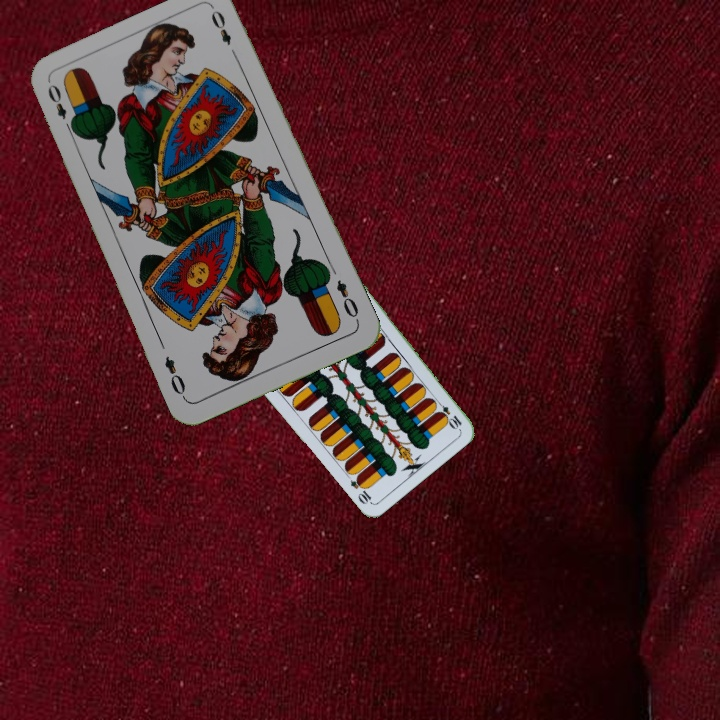E10: (431, 396, 464, 431)
EO: (43, 80, 77, 136), (332, 276, 362, 325)
